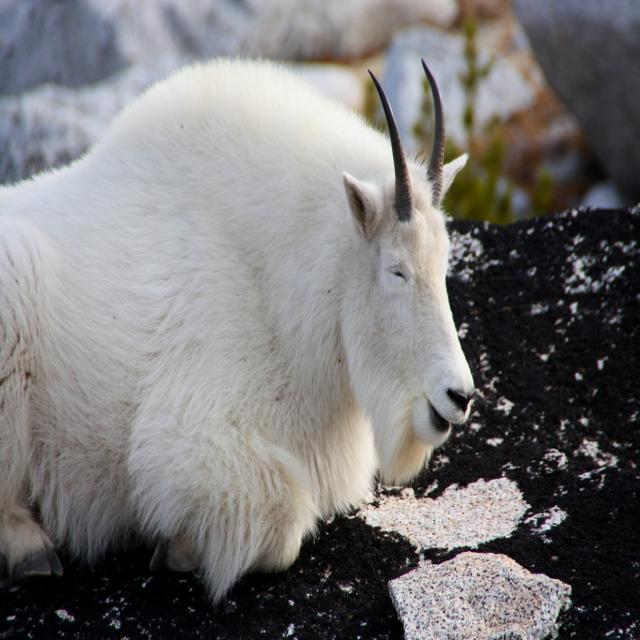Goat: (0, 42, 471, 600)
